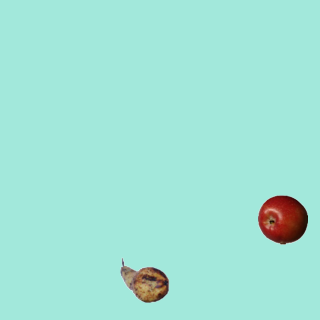Apple Braeburn: (257, 194, 307, 244)
Pear Abate: (119, 255, 169, 305)
